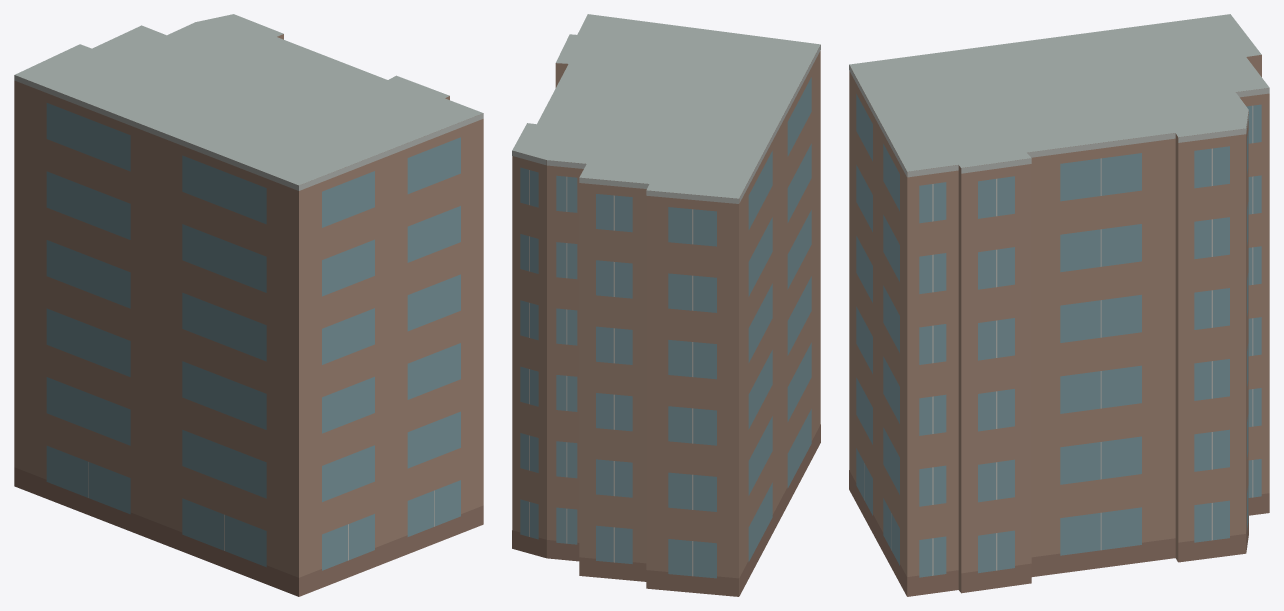
The model's file is survey-upis-32512728.glb.
3 renders of one model, left to right at view 1: azimuth 30°, elevation 25°; view 2: azimuth 150°, elevation 25°; view 3: azimuth 270°, elevation 25°, orthographic. The views are drawn at different scales.
Visible parts, largest first — view 1: survey-upis-32512728.tmp; view 2: survey-upis-32512728.tmp; view 3: survey-upis-32512728.tmp.
Boxes of the visible parts, x1,y1,x2,y2 form: survey-upis-32512728.tmp: (14,14,483,596); survey-upis-32512728.tmp: (512,14,820,596); survey-upis-32512728.tmp: (849,14,1269,596).
Size of the model in its own units: 14.33 by 18 by 16.14.
